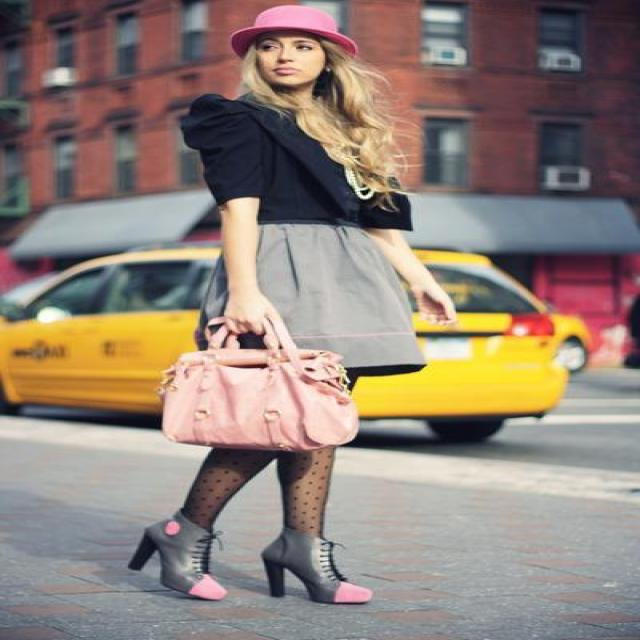bag: (164, 312, 358, 472)
hat: (232, 5, 373, 72)
jacket: (173, 93, 411, 231)
shoe: (134, 514, 372, 604)
skirt: (182, 224, 426, 390)
